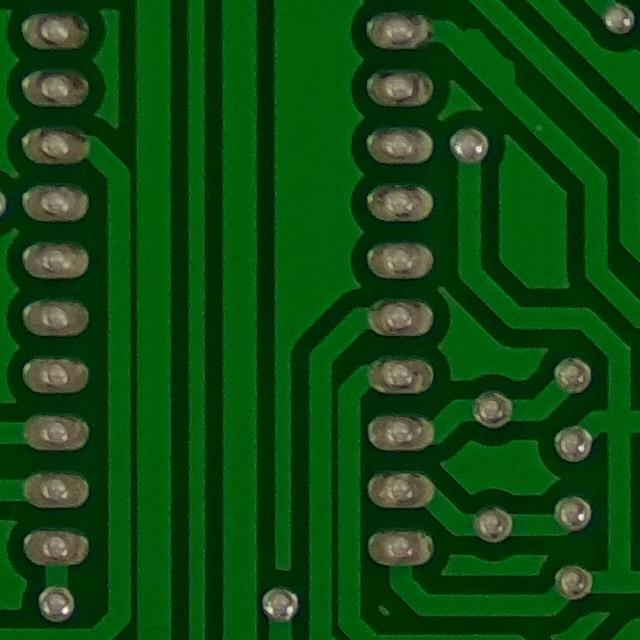spur: (447, 18, 531, 93)
